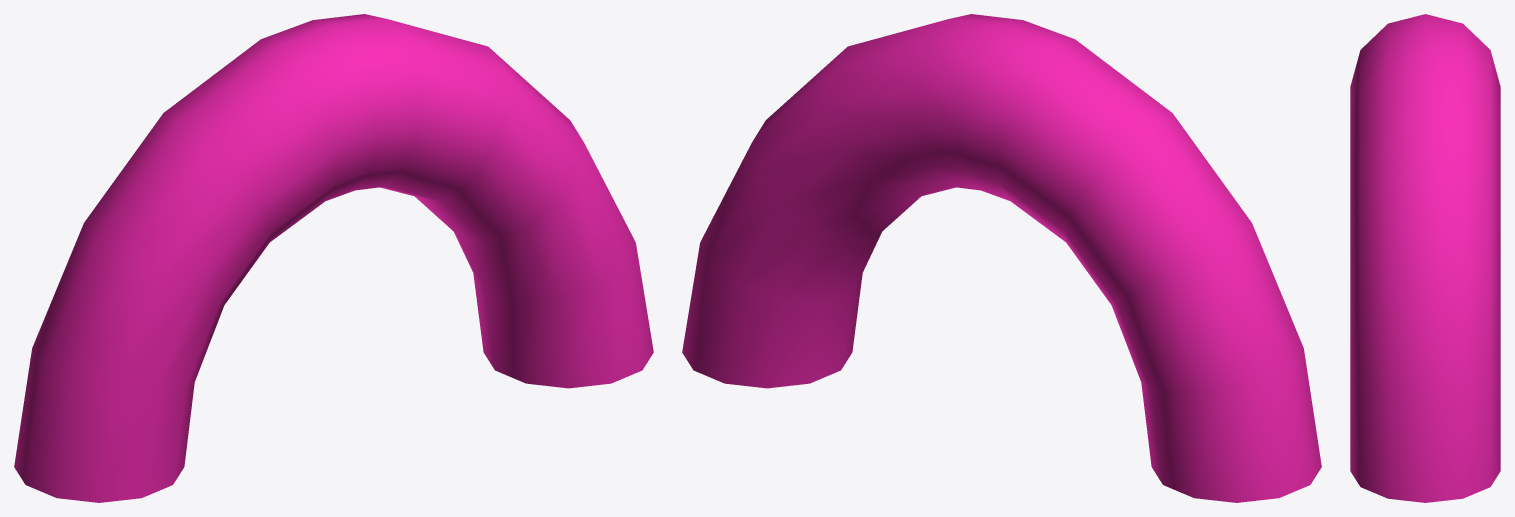
File: MD_Roots_003.FBX
3 renders of one model, left to right at view 1: azimuth 30°, elevation 25°; view 2: azimuth 150°, elevation 25°; view 3: azimuth 270°, elevation 25°, orthographic. The views are drawn at different scales.
Parts seen in each view (by area): view 1: Roots_003; view 2: Roots_003; view 3: Roots_003.
Part boxes in pixels (x1=…): Roots_003: x1=14, y1=14, x2=653, y2=502; Roots_003: x1=682, y1=14, x2=1321, y2=502; Roots_003: x1=1350, y1=14, x2=1500, y2=502.
Size of the model in its own units: 1.67 by 0.9961 by 0.4.
